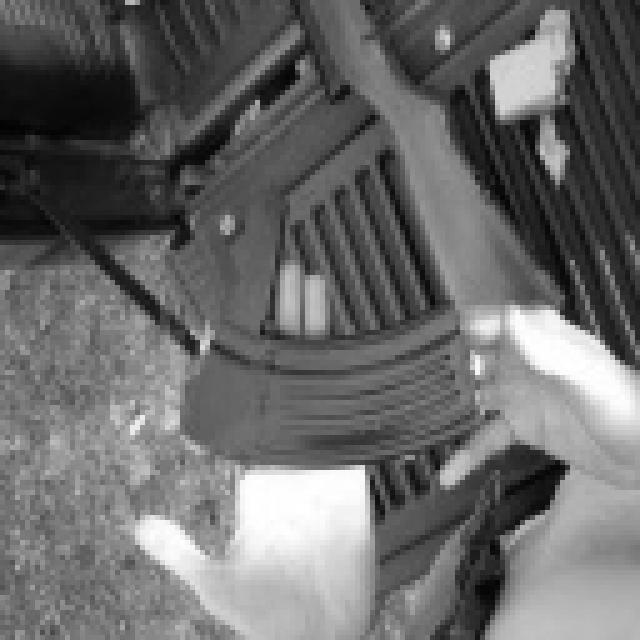Rifle: (0, 1, 583, 474)
